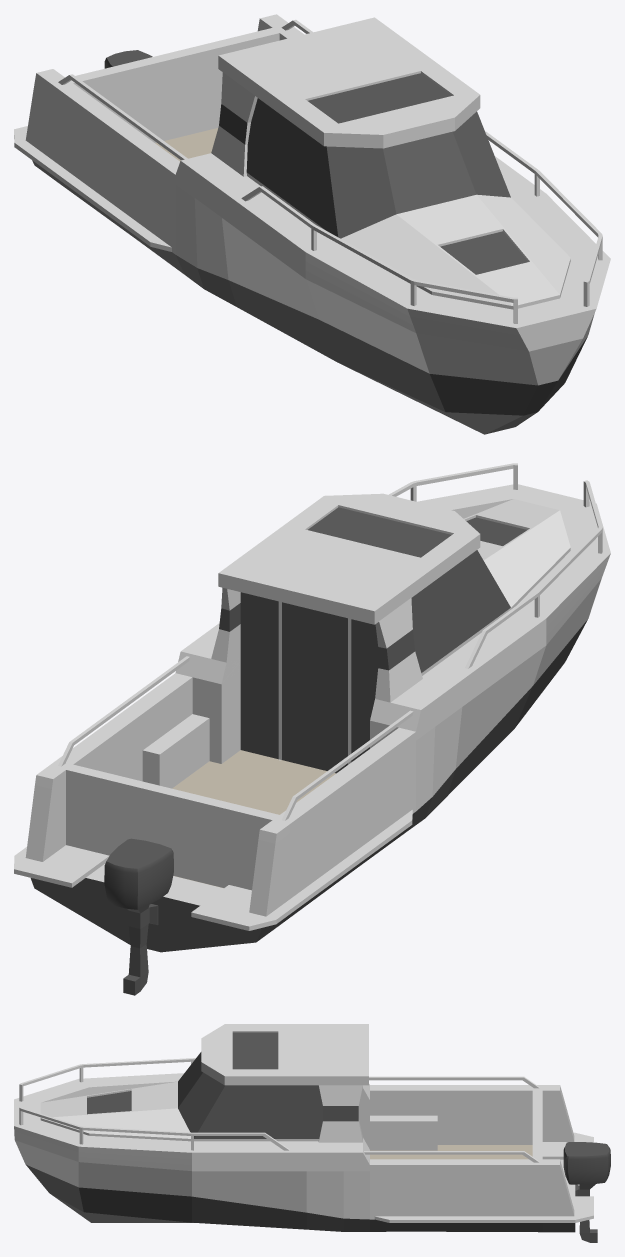
File: Motor_Boat.fbx
The picture shows the model from 3 angles, top to bottom: view 1: azimuth 30°, elevation 25°; view 2: azimuth 150°, elevation 25°; view 3: azimuth 270°, elevation 25°; orthographic projection. The views are drawn at different scales.
Parts seen in each view (by area): view 1: Motor_Boat; view 2: Motor_Boat; view 3: Motor_Boat.
Part boxes in pixels (left/top/right/bottom): Motor_Boat: left=14, top=14, right=610, bottom=434; Motor_Boat: left=14, top=463, right=610, bottom=995; Motor_Boat: left=14, top=1024, right=610, bottom=1242.
Bounding box in the file's own units: 139 × 141 × 401.
